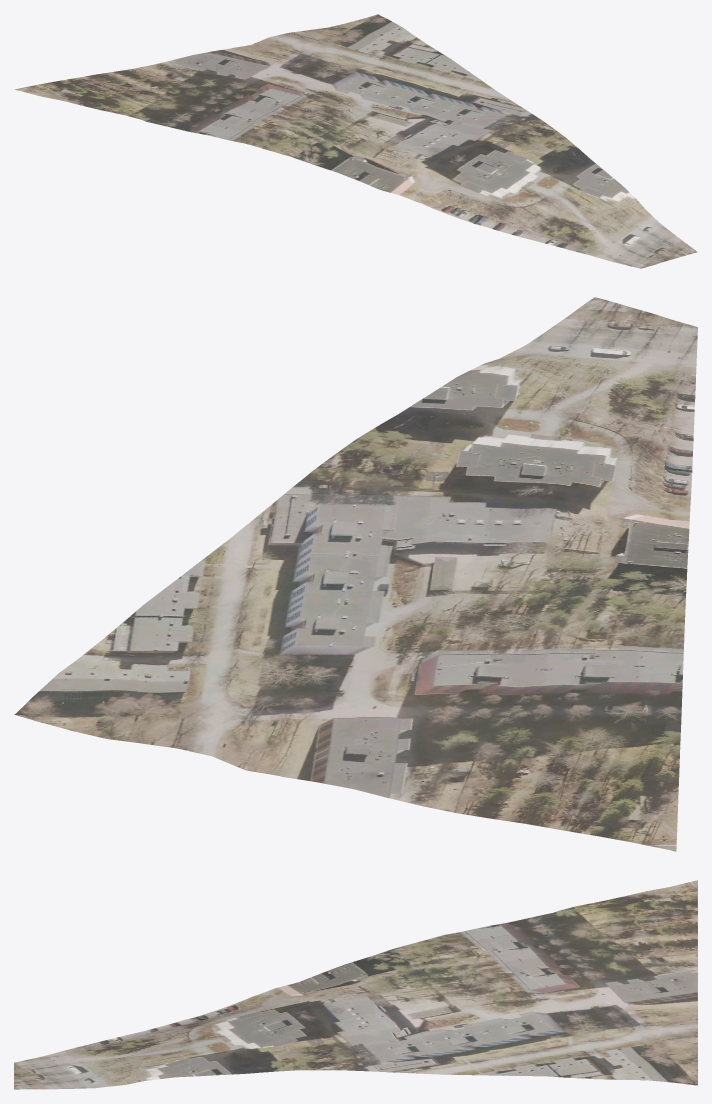
File: CM_Terrain_24491278_6815084.fbx
3 renders of one model, top to bottom at view 1: azimuth 30°, elevation 25°; view 2: azimuth 150°, elevation 25°; view 3: azimuth 270°, elevation 25°, orthographic. The views are drawn at different scales.
Visible parts, largest first — view 1: CM_Terrain_24491278_6815084_LOD0; view 2: CM_Terrain_24491278_6815084_LOD0; view 3: CM_Terrain_24491278_6815084_LOD0.
Boxes of the visible parts, bbox=[...] form: CM_Terrain_24491278_6815084_LOD0: bbox=[15, 14, 697, 268]; CM_Terrain_24491278_6815084_LOD0: bbox=[14, 297, 697, 851]; CM_Terrain_24491278_6815084_LOD0: bbox=[14, 880, 697, 1089].
Size of what is drawn, in the model's own units: 135 by 9.48 by 205.
